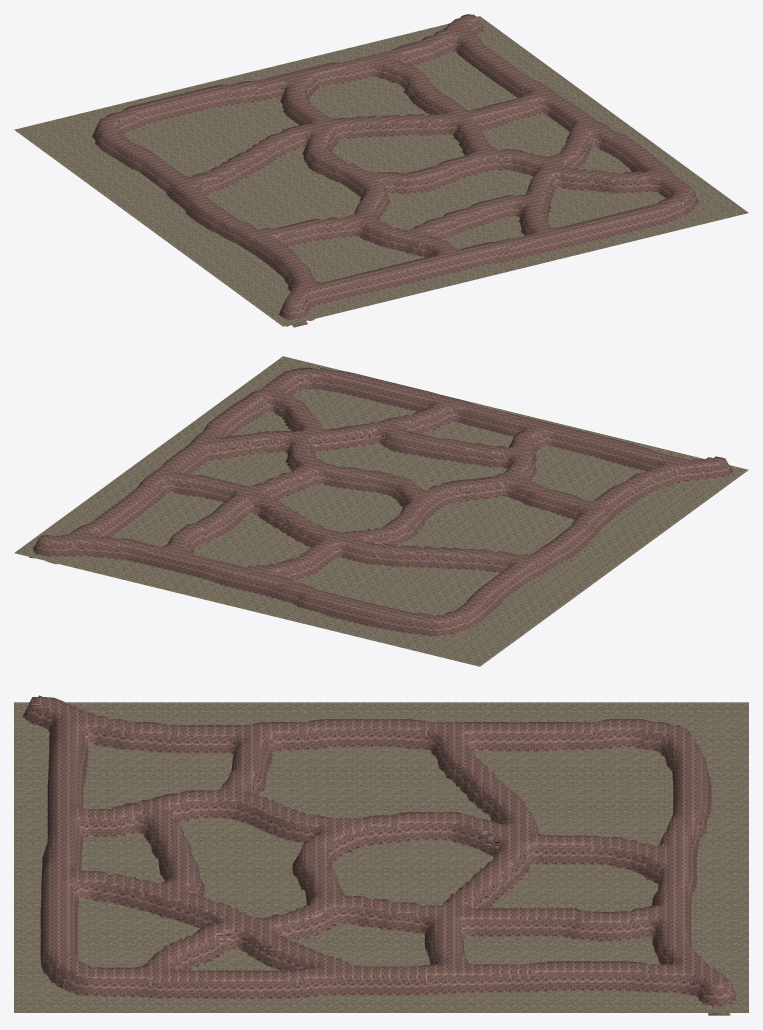
The model's file is map02.FBX.
3 renders of one model, top to bottom at view 1: azimuth 30°, elevation 25°; view 2: azimuth 150°, elevation 25°; view 3: azimuth 270°, elevation 25°, orthographic. The views are drawn at different scales.
Parts seen in each view (by area): view 1: map02; view 2: map02; view 3: map02.
Part boxes in pixels (x1,y1,x2,y2): map02: (14,14,748,327); map02: (14,356,748,666); map02: (14,695,748,1015).
Bounding box in the file's own units: 400 × 400 × 14.
2 materials, 2 textured.
